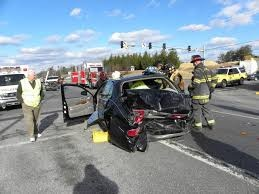Broken-glass: (121, 81, 178, 93), (127, 110, 147, 124), (168, 111, 186, 121)
Smashed: (121, 90, 189, 141)
